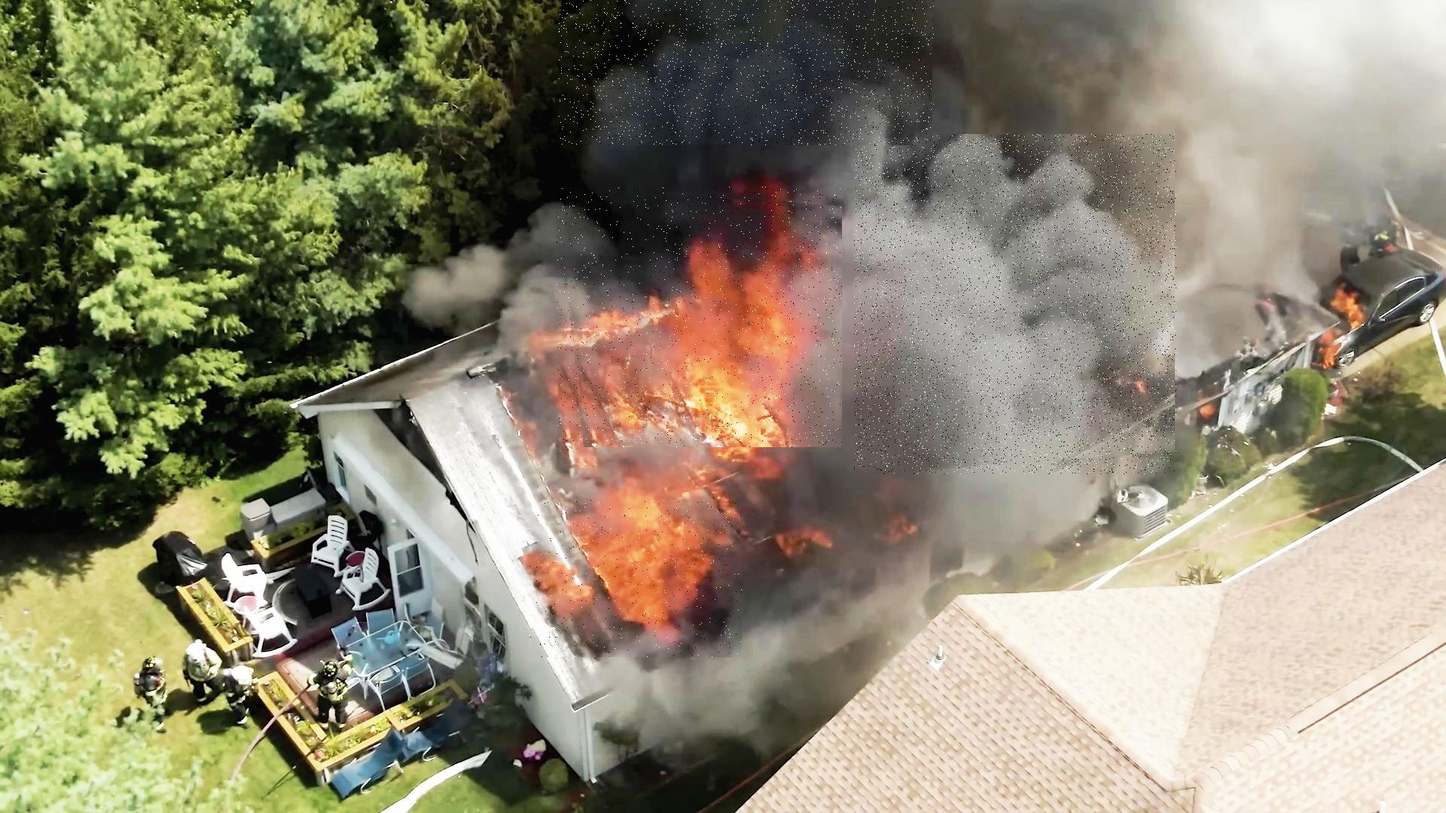fire: (557, 187, 842, 447), (529, 500, 742, 657)
smoke: (855, 134, 1177, 474), (560, 0, 935, 145)
